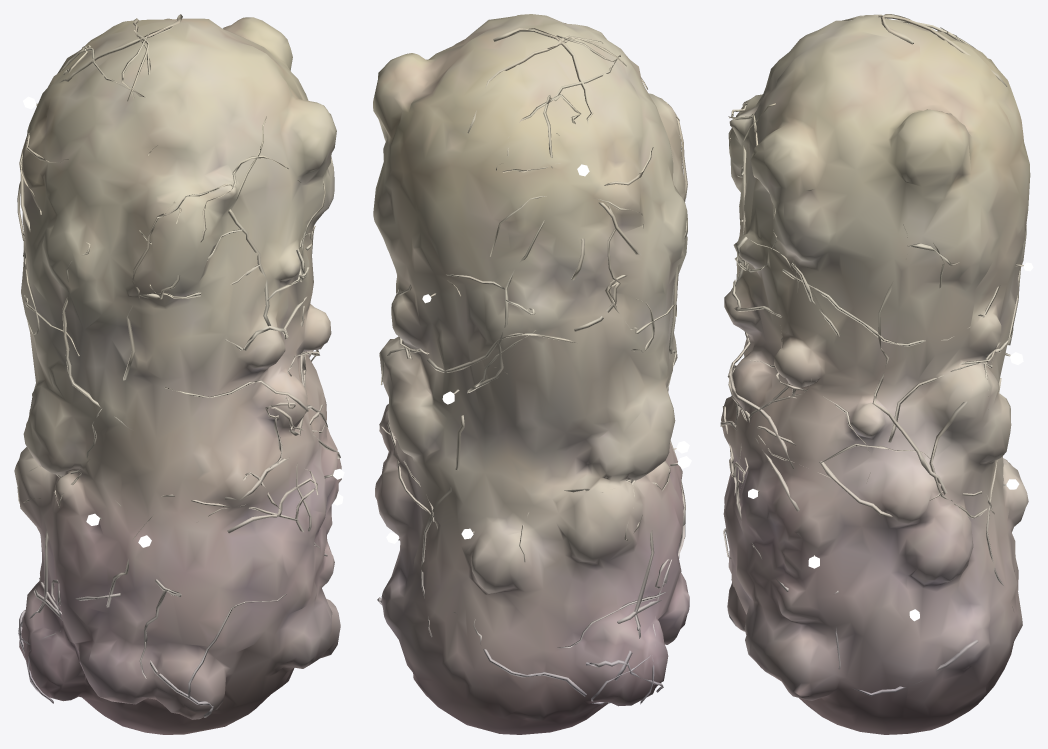
The model's file is labirent_dugum_a.glb.
The picture shows the model from 3 angles, left to right: view 1: azimuth 30°, elevation 25°; view 2: azimuth 150°, elevation 25°; view 3: azimuth 270°, elevation 25°; orthographic projection.
Visible parts, largest first — view 1: labirent_dugum_a_LOD0; view 2: labirent_dugum_a_LOD0; view 3: labirent_dugum_a_LOD0.
Part boxes in pixels (x1,y1,x2,y2): labirent_dugum_a_LOD0: [14, 14, 344, 734]; labirent_dugum_a_LOD0: [373, 14, 691, 734]; labirent_dugum_a_LOD0: [720, 14, 1033, 734].
Size of what is drawn, in the model's own units: 2.16 by 5.1 by 2.14.
